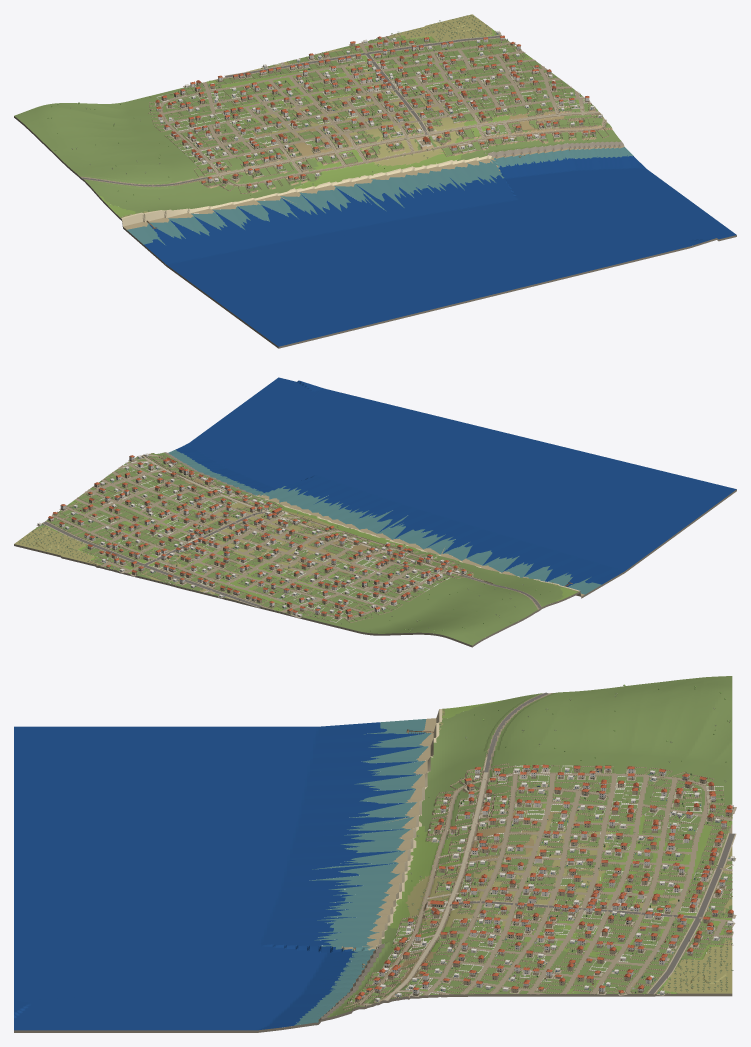
Rendered from parca_-1_-6-yakin.glb.
The picture shows the model from 3 angles, top to bottom: view 1: azimuth 30°, elevation 25°; view 2: azimuth 150°, elevation 25°; view 3: azimuth 270°, elevation 25°; orthographic projection. The views are drawn at different scales.
Visible parts, largest first — view 1: parca_-1_-6_arazi, parca_-1_-6_yapilar, parca_-1_-6_duvarlar, parca_-1_-6_yollar, parca_-1_-6_bitkiler; view 2: parca_-1_-6_arazi, parca_-1_-6_yapilar, parca_-1_-6_duvarlar, parca_-1_-6_yollar, parca_-1_-6_bitkiler; view 3: parca_-1_-6_arazi, parca_-1_-6_yapilar, parca_-1_-6_duvarlar, parca_-1_-6_yollar, parca_-1_-6_bitkiler.
Part boxes in pixels (left/top/right/bottom): parca_-1_-6_arazi: left=14, top=14, right=736, bottom=348; parca_-1_-6_yapilar: left=155, top=30, right=602, bottom=188; parca_-1_-6_duvarlar: left=148, top=31, right=609, bottom=193; parca_-1_-6_yollar: left=82, top=35, right=606, bottom=186; parca_-1_-6_bitkiler: left=47, top=15, right=596, bottom=211; parca_-1_-6_arazi: left=14, top=377, right=736, bottom=647; parca_-1_-6_yapilar: left=36, top=453, right=473, bottom=620; parca_-1_-6_duvarlar: left=36, top=453, right=473, bottom=622; parca_-1_-6_yollar: left=42, top=454, right=541, bottom=617; parca_-1_-6_bitkiler: left=19, top=456, right=553, bottom=631; parca_-1_-6_arazi: left=14, top=676, right=732, bottom=1032; parca_-1_-6_yapilar: left=353, top=764, right=736, bottom=1003; parca_-1_-6_duvarlar: left=343, top=763, right=733, bottom=1010; parca_-1_-6_yollar: left=358, top=692, right=736, bottom=1005; parca_-1_-6_bitkiler: left=348, top=684, right=733, bottom=1002.
Bounding box in the file's own units: 1008 × 91.31 × 1006.
